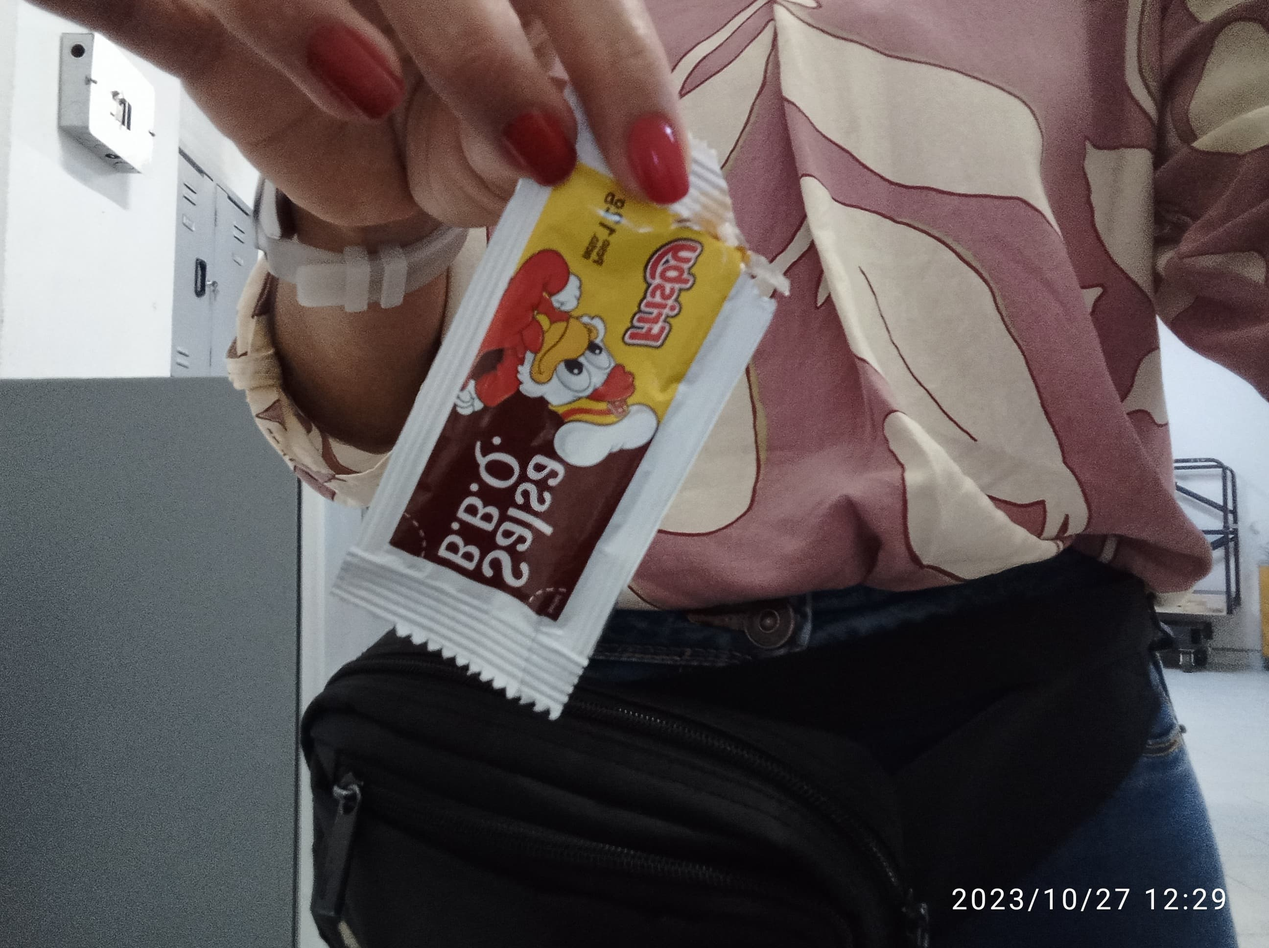Ordinario: (330, 163, 777, 721)
